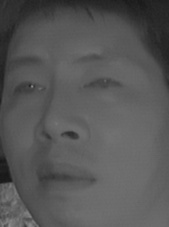eye: (82, 70, 122, 95), (11, 77, 47, 102)
mouth: (31, 156, 98, 197)
